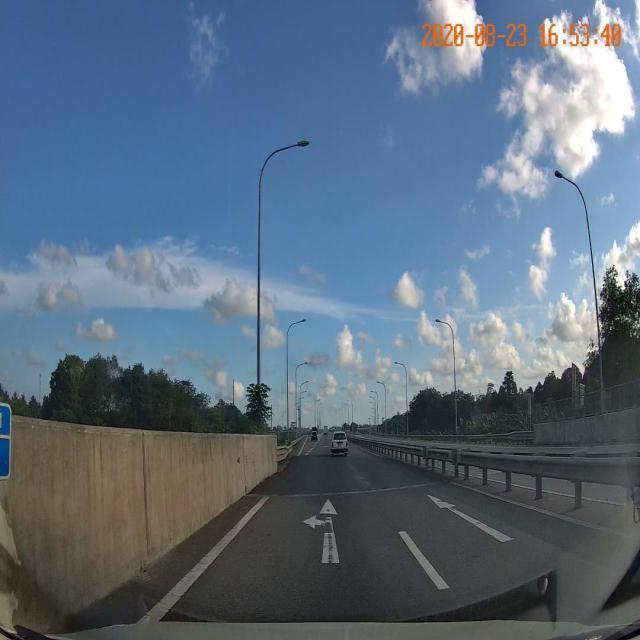Liniya 1: (132, 495, 273, 626), (397, 529, 451, 592), (297, 436, 308, 457), (304, 443, 318, 455)
Strelka vpered: (426, 494, 514, 543)
Strelka vpered - vlevo: (303, 498, 339, 563)
